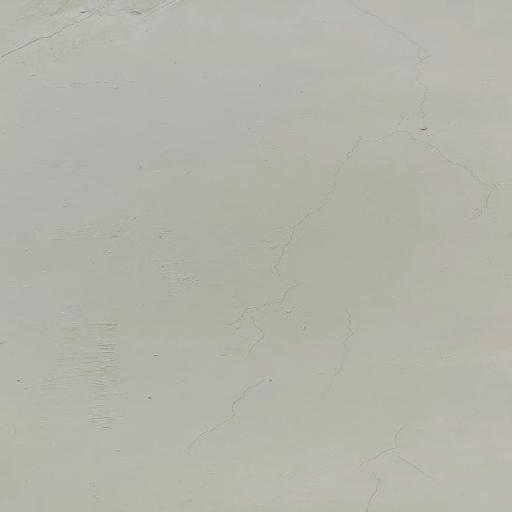employee-detectio-system: (54, 45, 463, 484)
